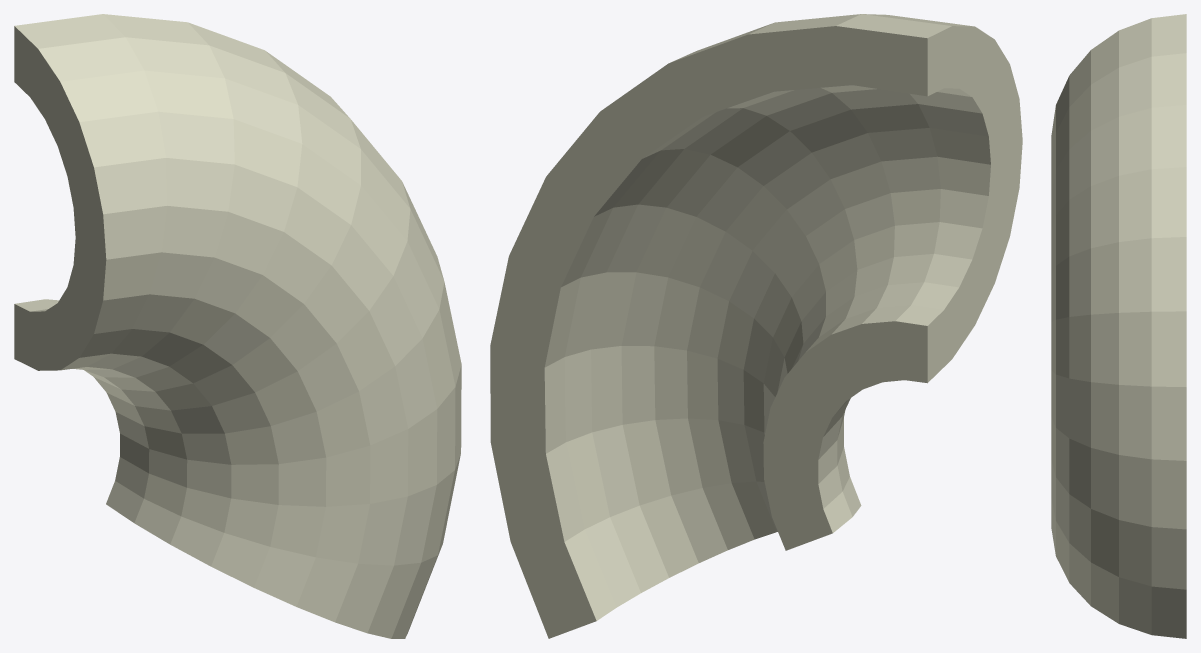
Rendered from section_014.obj.
3 renders of one model, left to right at view 1: azimuth 30°, elevation 25°; view 2: azimuth 150°, elevation 25°; view 3: azimuth 270°, elevation 25°, orthographic. The views are drawn at different scales.
Bounding box in the file's own units: 7.96 × 12.06 × 3.
